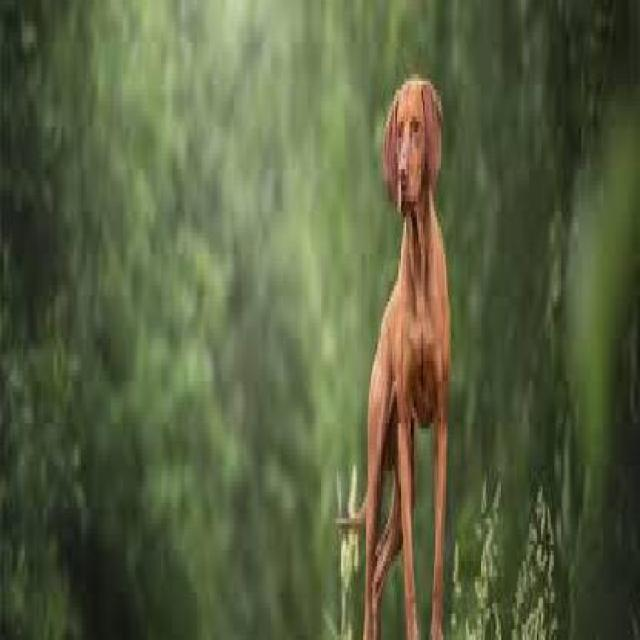animals: (332, 51, 453, 640)
